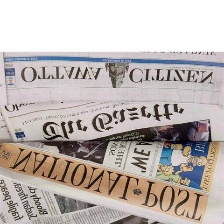news_paper: (0, 51, 224, 224)
